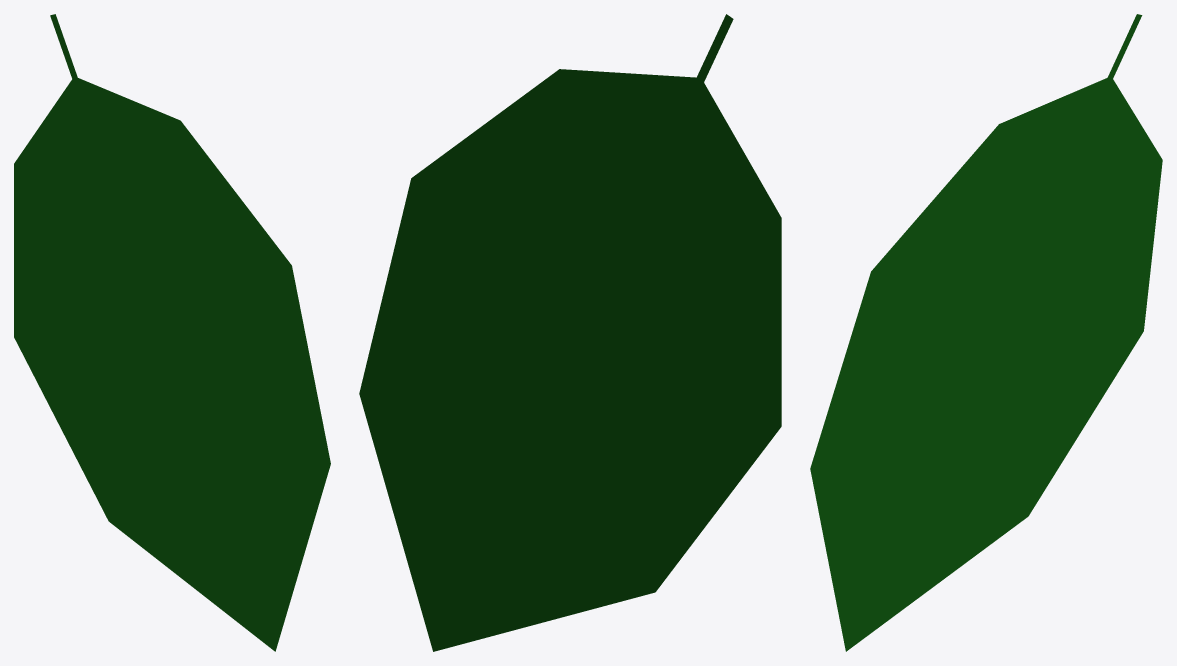
Rendered from Leaves.030.obj.
3 views of the same model, side by side, from view 1: azimuth 30°, elevation 25°; view 2: azimuth 210°, elevation 25°; view 3: azimuth 270°, elevation 25° (orthographic). The views are drawn at different scales.
Visible parts, largest first — view 1: Leaves.030_leaves.030; view 2: Leaves.030_leaves.030; view 3: Leaves.030_leaves.030.
Part boxes in pixels (left/top/right/bottom): Leaves.030_leaves.030: left=14, top=14, right=330, bottom=651; Leaves.030_leaves.030: left=359, top=14, right=781, bottom=651; Leaves.030_leaves.030: left=810, top=14, right=1162, bottom=651.
Bounding box in the file's own units: 0.0408 × 0.1357 × 0.0729.
